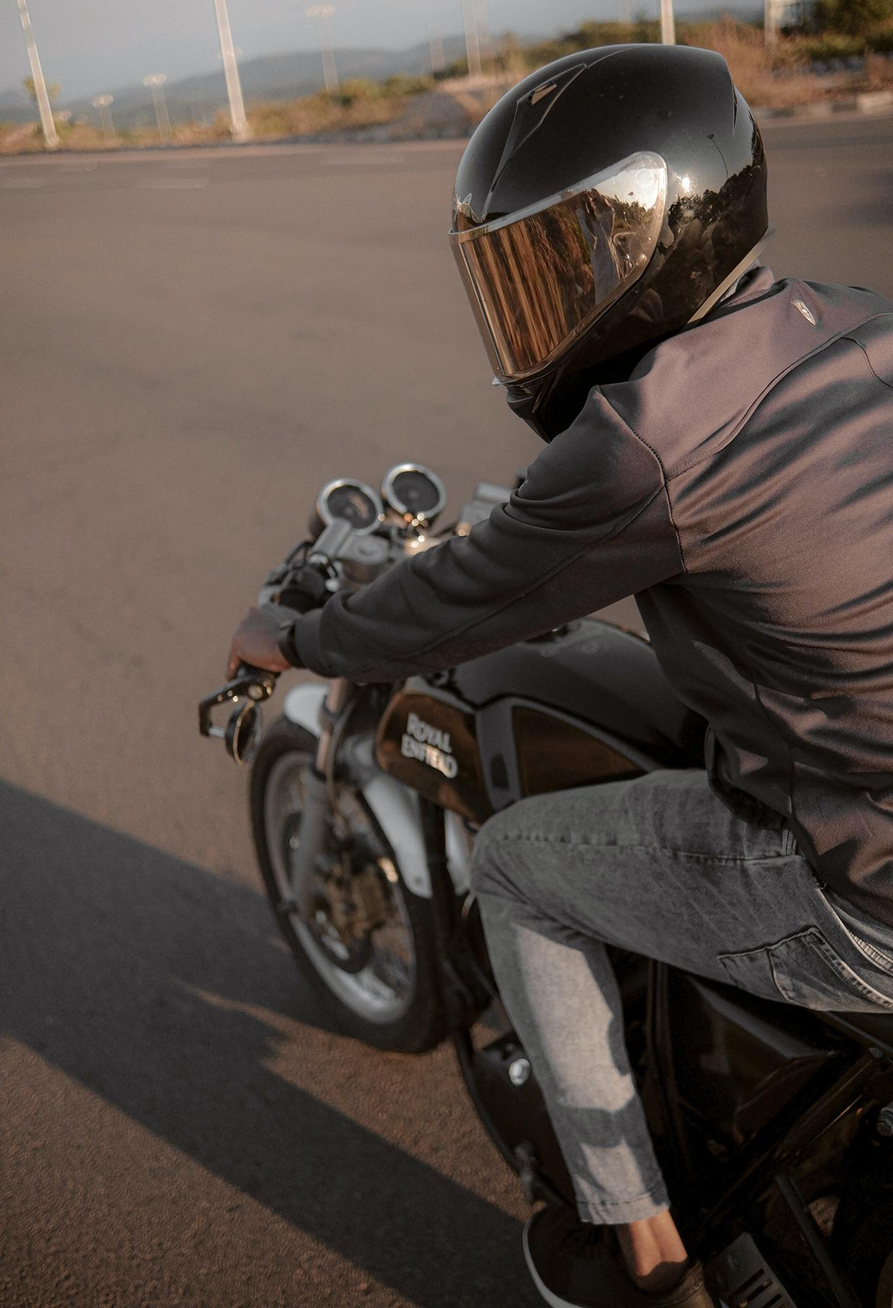helmet: (445, 40, 780, 456)
